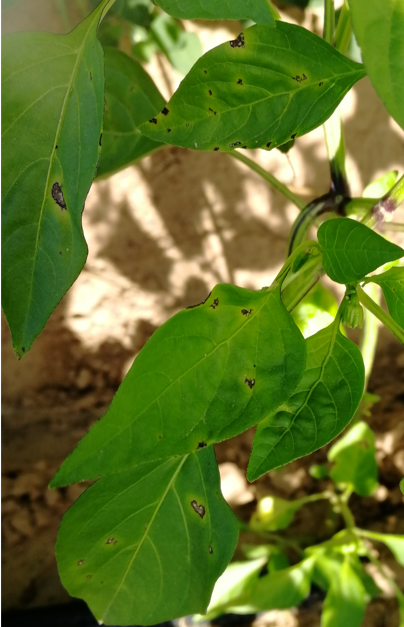Anthrax: (49, 284, 306, 492), (57, 437, 238, 627), (133, 20, 368, 151), (28, 168, 80, 225)
blight: (286, 156, 402, 235)
